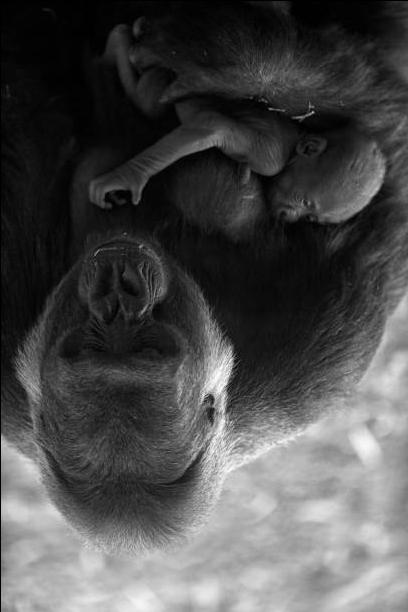gorille_Autres: (0, 0, 403, 595)
